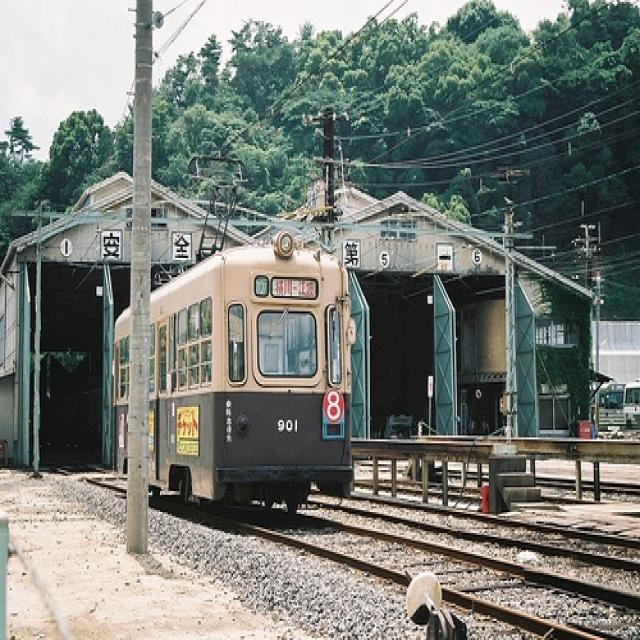train: (109, 230, 358, 528)
